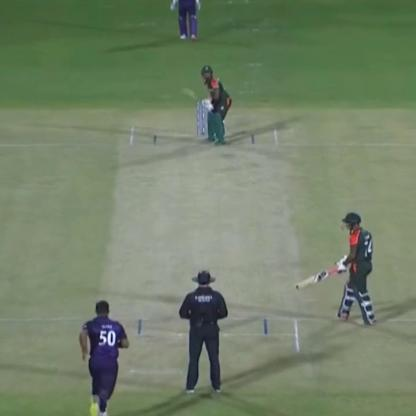bat: (178, 82, 217, 112), (293, 268, 337, 294)
pitch: (106, 124, 300, 354)
